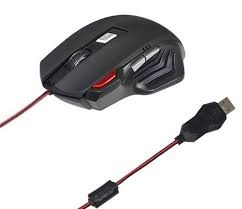mouse: (37, 13, 188, 104)
